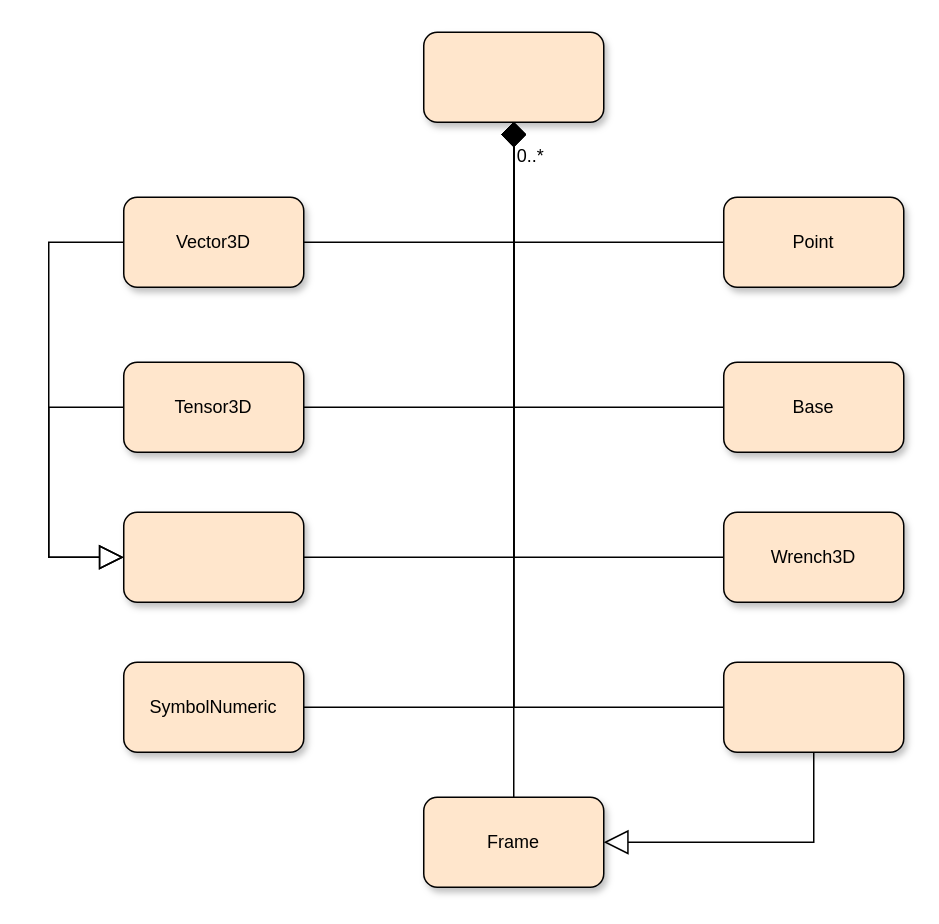
Image size: 939x924. Some labels were removed from this diagram. The shapes that lost their labels are listed below. From the top down, each one's centre as x and y in pixels, then its label:
At pixel 514 79: "System".
At pixel 214 559: "Matrix".
At pixel 814 709: "Solid".
